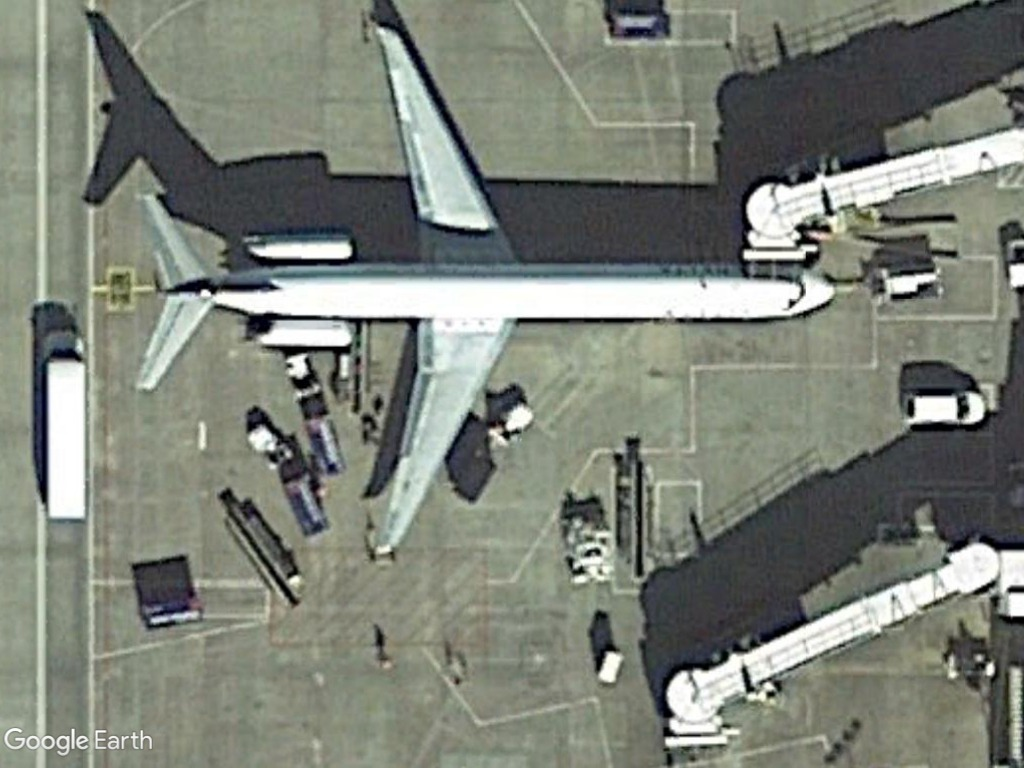chartered: (122, 21, 845, 572)
van: (36, 325, 92, 528), (896, 389, 993, 431)
